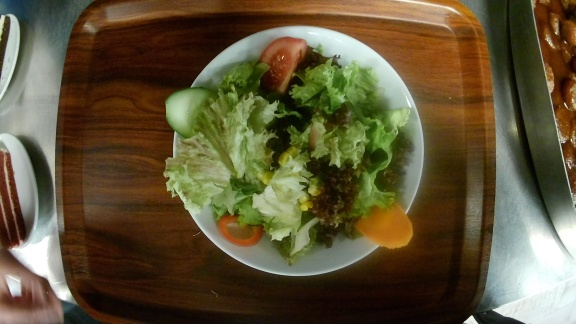salata: (172, 25, 426, 277)
